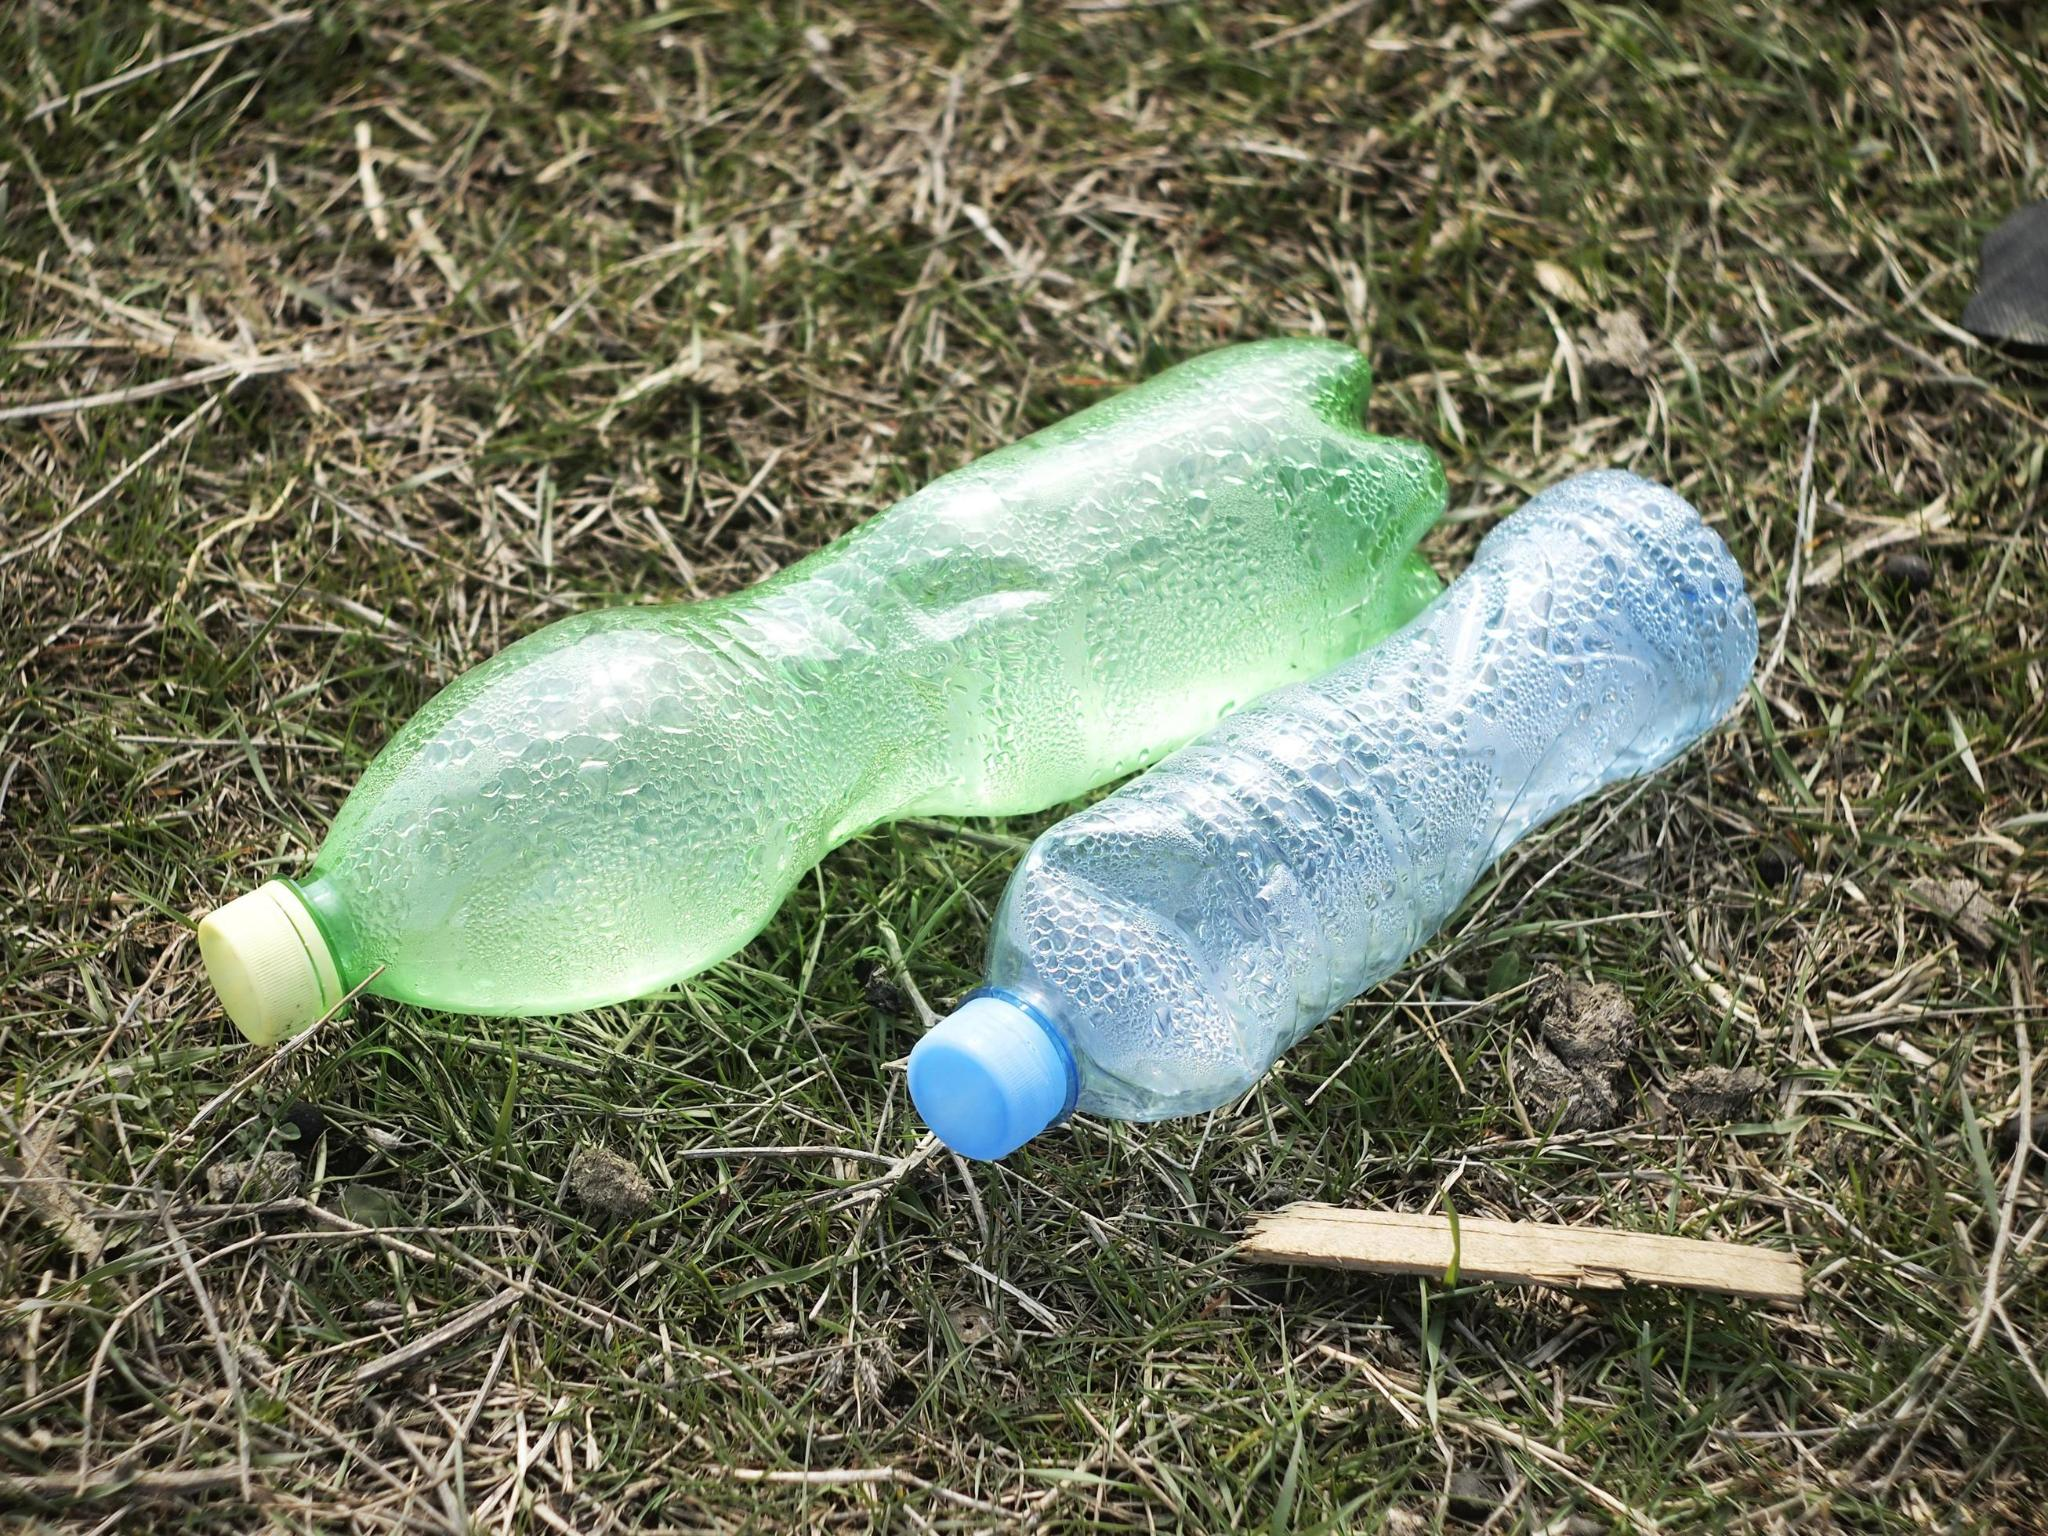bottle: (97, 331, 1451, 1063), (887, 452, 1784, 1333)
